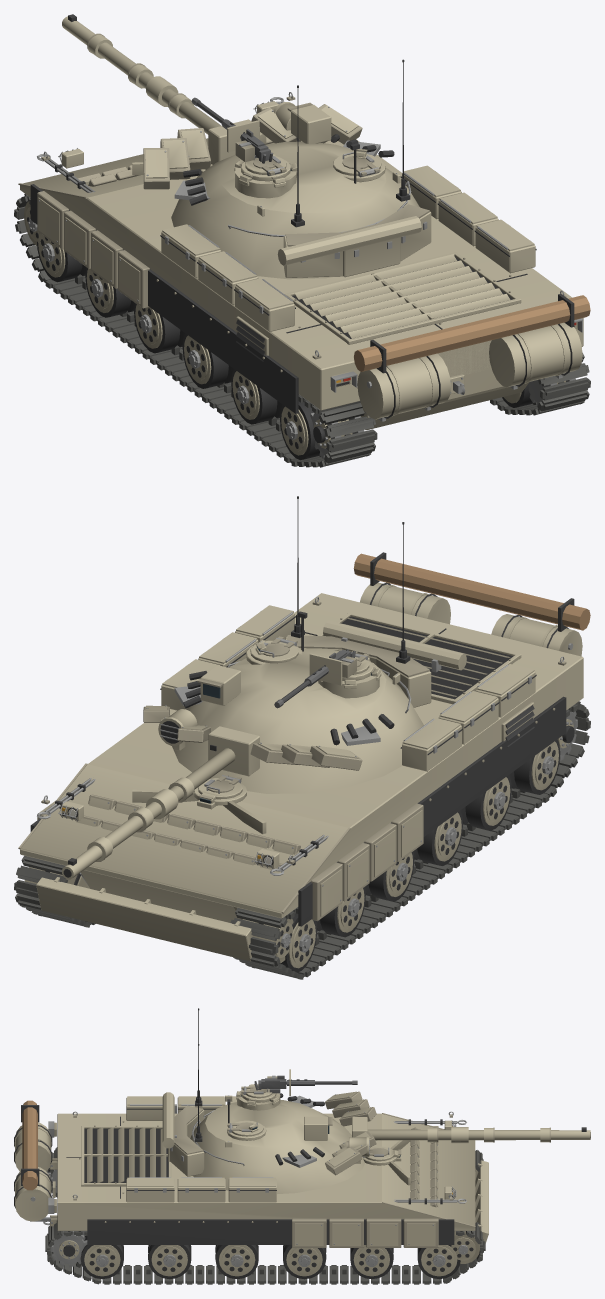
Rendered from rus_mbt_72b.glb.
The picture shows the model from 3 angles, top to bottom: view 1: azimuth 30°, elevation 25°; view 2: azimuth 150°, elevation 25°; view 3: azimuth 270°, elevation 25°; orthographic projection. The views are drawn at different scales.
Visible parts, largest first — view 1: body, turret, barrel; view 2: body, turret, barrel; view 3: body, turret, barrel.
Boxes of the visible parts, <box> form: body: <box>14,92,590,467</box>; turret: <box>143,59,431,279</box>; barrel: <box>62,14,259,164</box>; body: <box>14,552,590,979</box>; turret: <box>143,496,466,793</box>; barrel: <box>62,726,259,879</box>; body: <box>14,1096,488,1284</box>; turret: <box>162,1008,376,1193</box>; barrel: <box>352,1117,590,1143</box>.
Size of the model in its own units: 3.78 by 3.92 by 9.59.
